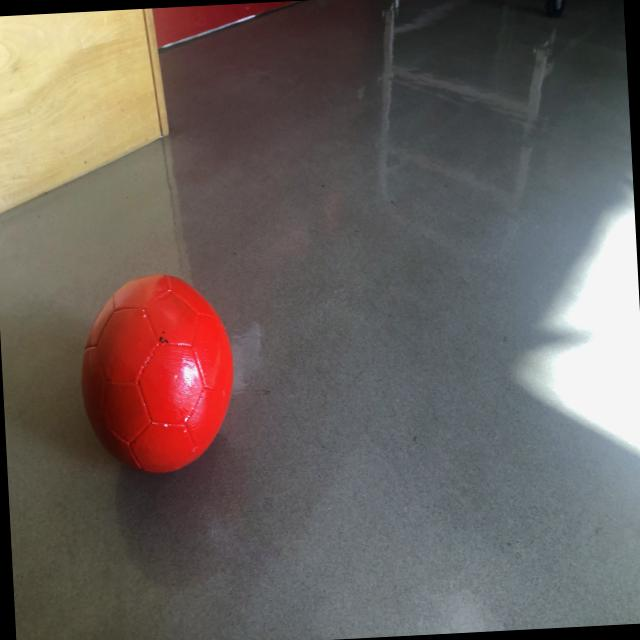red_ball: (75, 268, 238, 482)
